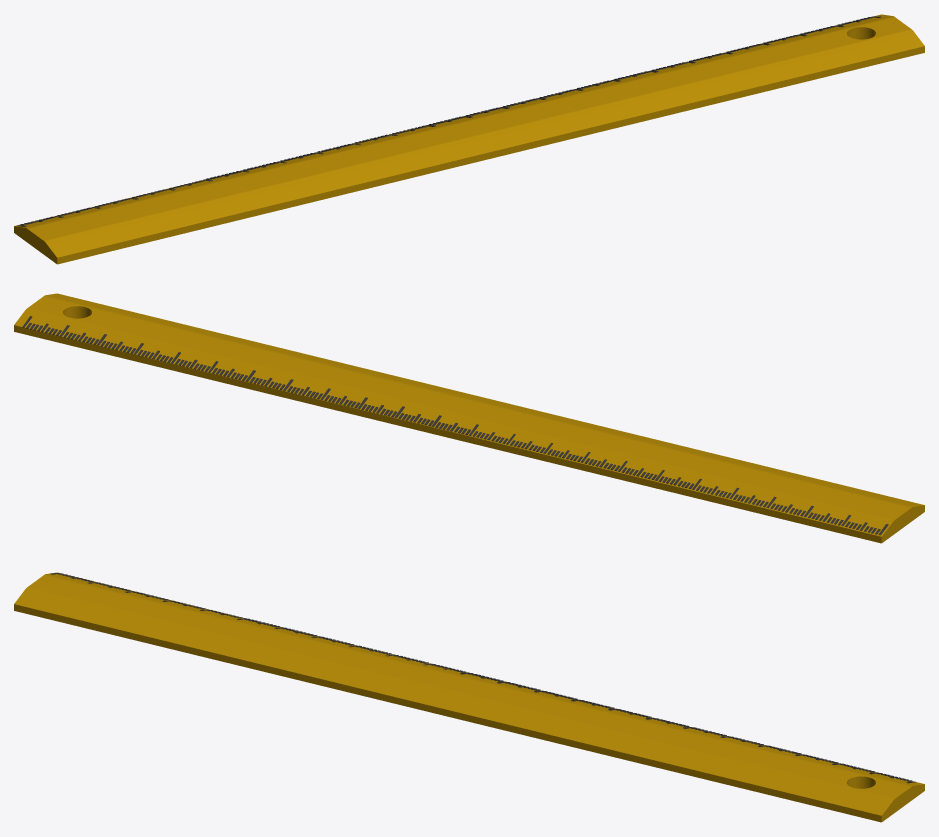
The model's file is Ruler_fbx.fbx.
The picture shows the model from 3 angles, top to bottom: view 1: azimuth 30°, elevation 25°; view 2: azimuth 150°, elevation 25°; view 3: azimuth 330°, elevation 25°; orthographic projection.
Visible parts, largest first — view 1: pCube49; view 2: pCube49; view 3: pCube49.
Boxes of the visible parts, x1,y1,x2,y2 form: pCube49: (14,14,924,264); pCube49: (14,293,924,543); pCube49: (14,572,924,822).
Bounding box in the file's own units: 15.23 × 0.2319 × 1.32.
